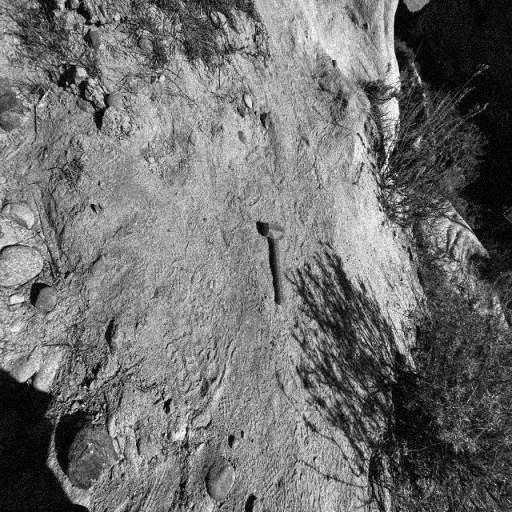mallet: (262, 219, 292, 308)
